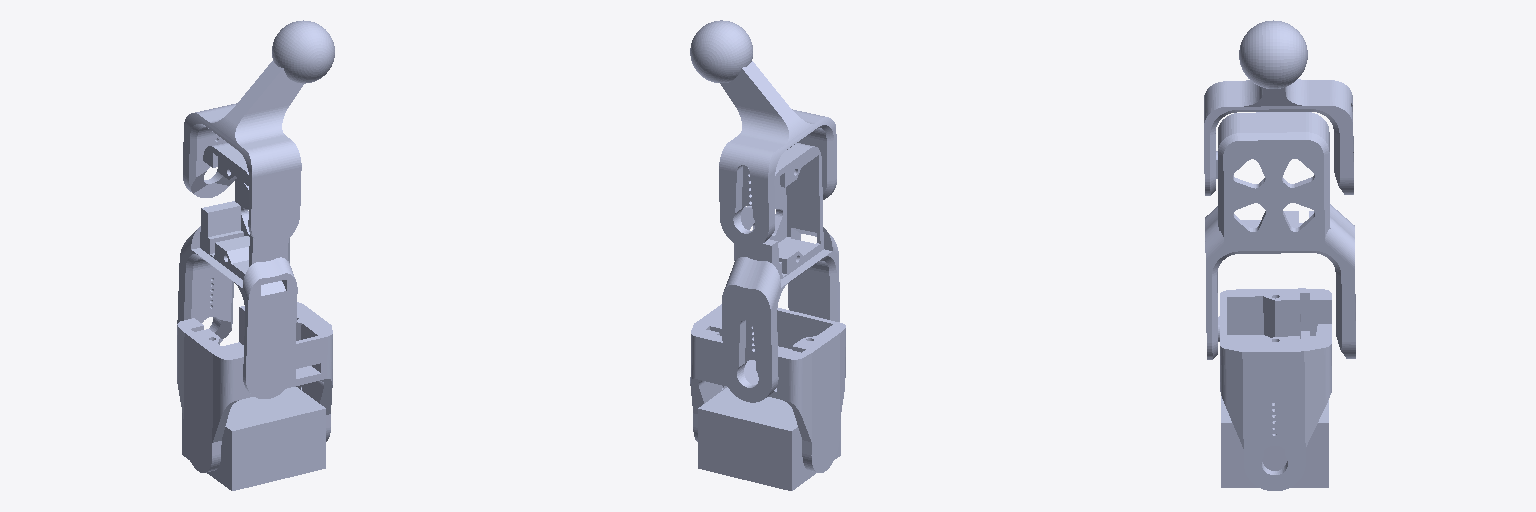
The robot description file, URDF, robot "Exra_LegV2":
<?xml version="1.0" encoding="utf-8"?>
<!-- This URDF was automatically created by SolidWorks to URDF Exporter! Originally created by [author] ([email redacted]) 
     Commit Version: 1.6.0-1-g15f4949  Build Version: 1.6.7594.29634
     For more information, please see http://wiki.ros.org/sw_urdf_exporter -->
<robot
  name="Exra_LegV2">
  <link
    name="base_link">
    <inertial>
      <origin
        xyz="-0.000233768618853291 -3.09779557959258E-19 1.70360697428266E-18"
        rpy="0 0 0" />
      <mass
        value="0.0199138270240577" />
      <inertia
        ixx="2.13311139049145E-06"
        ixy="-5.73135927656867E-23"
        ixz="3.83884529267489E-23"
        iyy="3.31344688024354E-06"
        iyz="6.66376701472719E-24"
        izz="2.49469688024354E-06" />
    </inertial>
    <visual>
      <origin
        xyz="0 0 0"
        rpy="0 0 0" />
      <geometry>
        <mesh
          filename="package://Exra_LegV2/meshes/base_link.STL" />
      </geometry>
      <material
        name="">
        <color
          rgba="0.792156862745098 0.819607843137255 0.933333333333333 1" />
      </material>
    </visual>
    <collision>
      <origin
        xyz="0 0 0"
        rpy="0 0 0" />
      <geometry>
        <mesh
          filename="package://Exra_LegV2/meshes/base_link.STL" />
      </geometry>
    </collision>
  </link>
  <link
    name="Shoulder_link">
    <inertial>
      <origin
        xyz="-0.000474316425492155 -0.0025918893228663 -0.0209875218685372"
        rpy="0 0 0" />
      <mass
        value="0.0144461065902208" />
      <inertia
        ixx="4.77423191362295E-06"
        ixy="-6.17328350672298E-08"
        ixz="-1.59268827661415E-08"
        iyy="2.37306491880492E-06"
        iyz="8.24703373598102E-08"
        izz="4.65201298901211E-06" />
    </inertial>
    <visual>
      <origin
        xyz="0 0 0"
        rpy="0 0 0" />
      <geometry>
        <mesh
          filename="package://Exra_LegV2/meshes/Shoulder_link.STL" />
      </geometry>
      <material
        name="">
        <color
          rgba="0.796078431372549 0.823529411764706 0.937254901960784 1" />
      </material>
    </visual>
    <collision>
      <origin
        xyz="0 0 0"
        rpy="0 0 0" />
      <geometry>
        <mesh
          filename="package://Exra_LegV2/meshes/Shoulder_link.STL" />
      </geometry>
    </collision>
  </link>
  <joint
    name="Base_Shoulder"
    type="continuous">
    <origin
      xyz="0 0 0"
      rpy="3.14159265358979 0.0112590342030074 -1.5707963267949" />
    <parent
      link="base_link" />
    <child
      link="Shoulder_link" />
    <axis
      xyz="0 1 0" />
    <limit
      lower="0"
      upper="0"
      effort="0"
      velocity="0" />
  </joint>
  <link
    name="Leg_Link">
    <inertial>
      <origin
        xyz="0.00267998318030074 -0.0325731607333485 -0.0013955182858969"
        rpy="0 0 0" />
      <mass
        value="0.0134974453991254" />
      <inertia
        ixx="5.0562428962301E-06"
        ixy="-5.36421209781768E-07"
        ixz="-3.73570931507187E-08"
        iyy="2.94307862484217E-06"
        iyz="-2.50497870745336E-07"
        izz="7.37141786780683E-06" />
    </inertial>
    <visual>
      <origin
        xyz="0 0 0"
        rpy="0 0 0" />
      <geometry>
        <mesh
          filename="package://Exra_LegV2/meshes/Leg_Link.STL" />
      </geometry>
      <material
        name="">
        <color
          rgba="0.796078431372549 0.823529411764706 0.937254901960784 1" />
      </material>
    </visual>
    <collision>
      <origin
        xyz="0 0 0"
        rpy="0 0 0" />
      <geometry>
        <mesh
          filename="package://Exra_LegV2/meshes/Leg_Link.STL" />
      </geometry>
    </collision>
  </link>
  <joint
    name="Shoulder_Leg"
    type="continuous">
    <origin
      xyz="0 0.00530059922218309 -0.028575001414303"
      rpy="1.60077640449273 0 3.14159265358979" />
    <parent
      link="Shoulder_link" />
    <child
      link="Leg_Link" />
    <axis
      xyz="1 0 0" />
    <limit
      lower="0"
      upper="0"
      effort="0"
      velocity="0" />
  </joint>
  <link
    name="Foot_Link">
    <inertial>
      <origin
        xyz="0.00238146619176452 0.0269979393596255 0.00830002907281078"
        rpy="0 0 0" />
      <mass
        value="0.0112121104139376" />
      <inertia
        ixx="3.83067077990042E-06"
        ixy="2.8355904593866E-07"
        ixz="1.26332191949769E-07"
        iyy="2.56750748688605E-06"
        iyz="-1.40379631708633E-06"
        izz="4.08160798125138E-06" />
    </inertial>
    <visual>
      <origin
        xyz="0 0 0"
        rpy="0 0 0" />
      <geometry>
        <mesh
          filename="package://Exra_LegV2/meshes/Foot_Link.STL" />
      </geometry>
      <material
        name="">
        <color
          rgba="0.796078431372549 0.823529411764706 0.937254901960784 1" />
      </material>
    </visual>
    <collision>
      <origin
        xyz="0 0 0"
        rpy="0 0 0" />
      <geometry>
        <mesh
          filename="package://Exra_LegV2/meshes/Foot_Link.STL" />
      </geometry>
    </collision>
  </link>
  <joint
    name="Leg_Foot"
    type="continuous">
    <origin
      xyz="0 -0.0507999994590122 0"
      rpy="3.13471856830761 0 0" />
    <parent
      link="Leg_Link" />
    <child
      link="Foot_Link" />
    <axis
      xyz="1 0 0" />
    <limit
      lower="0"
      upper="0"
      effort="0"
      velocity="0" />
  </joint>
  <link
    name="Toe_Link">
    <inertial>
      <origin
        xyz="-1.38777878078145E-17 0 5.20417042793042E-18"
        rpy="0 0 0" />
      <mass
        value="0.000523598775598299" />
      <inertia
        ixx="5.23598775598298E-09"
        ixy="6.46234853557053E-27"
        ixz="3.23780069938912E-26"
        iyy="5.23598775598299E-09"
        iyz="-4.03896783473158E-28"
        izz="5.23598775598299E-09" />
    </inertial>
    <visual>
      <origin
        xyz="0 0 0"
        rpy="0 0 0" />
      <geometry>
        <mesh
          filename="package://Exra_LegV2/meshes/Toe_Link.STL" />
      </geometry>
      <material
        name="">
        <color
          rgba="0.792156862745098 0.819607843137255 0.933333333333333 1" />
      </material>
    </visual>
    <collision>
      <origin
        xyz="0 0 0"
        rpy="0 0 0" />
      <geometry>
        <mesh
          filename="package://Exra_LegV2/meshes/Toe_Link.STL" />
      </geometry>
    </collision>
  </link>
  <joint
    name="Foot_Toe"
    type="fixed">
    <origin
      xyz="0.0010159993544223 0.0436257102862045 0.0196880544937535"
      rpy="0 0 1.5707963267949" />
    <parent
      link="Foot_Link" />
    <child
      link="Toe_Link" />
    <axis
      xyz="0 0 0" />
  </joint>
</robot>

--- Render facts (derived) ---
Views: 3 orthographic renders of the robot side by side, from view 1: azimuth 30°, elevation 25°; view 2: azimuth 150°, elevation 25°; view 3: azimuth 270°, elevation 25°.
Robot: Exra_LegV2 — 5 links, 4 joints (3 continuous, 1 fixed); root link base_link; default pose: all joints at 0.
Visible links, largest first — view 1: Leg_Link, Foot_Link, Shoulder_link, base_link; view 2: Leg_Link, Foot_Link, Shoulder_link, base_link; view 3: Leg_Link, Shoulder_link, Foot_Link, base_link.
Boxes of the visible links, <box> form: Leg_Link: <box>177,143,297,398</box>; Foot_Link: <box>183,20,334,245</box>; Shoulder_link: <box>177,302,332,472</box>; base_link: <box>182,387,325,490</box>; Leg_Link: <box>722,143,839,402</box>; Foot_Link: <box>690,20,836,248</box>; Shoulder_link: <box>690,304,845,472</box>; base_link: <box>698,387,840,490</box>; Leg_Link: <box>1205,112,1355,359</box>; Shoulder_link: <box>1218,288,1331,490</box>; Foot_Link: <box>1204,20,1353,195</box>; base_link: <box>1221,396,1328,487</box>.
Size in the robot's own frame: 0.046 by 0.0421 by 0.142 metres.
Meshes: 5 distinct files referenced, 5 mesh visuals loaded (5 binary STL).